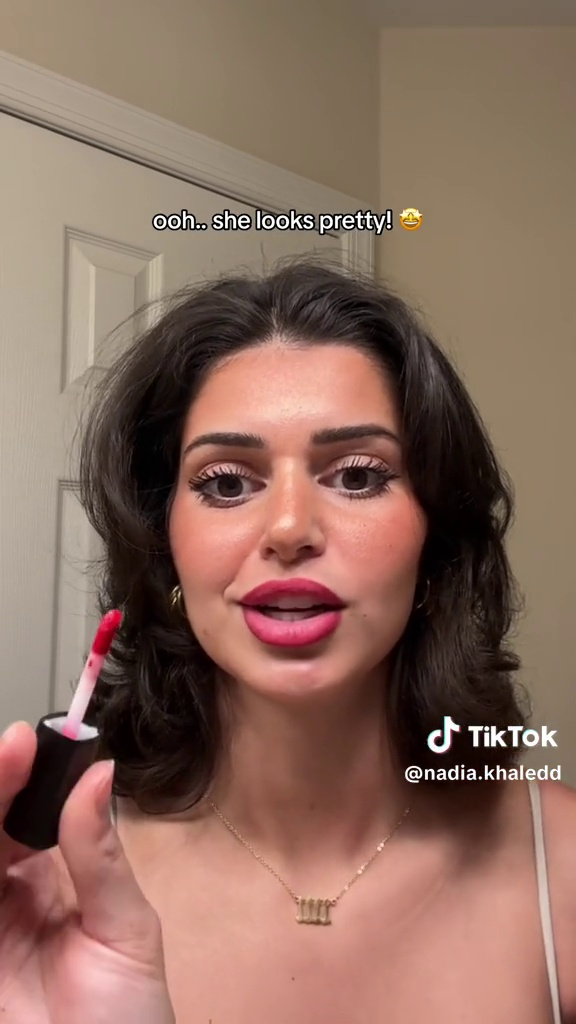train' :'yolo_data/train/images',: (2, 610, 135, 861)
